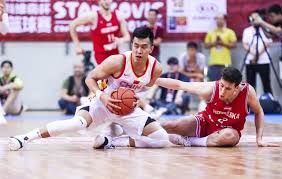fall: (157, 62, 270, 148)
